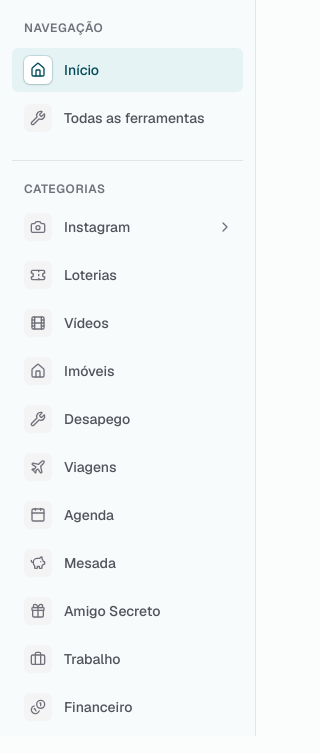
it: Menu Instagram em categorias (Manual / Automatizado) › Manual: post, carrossel, reels e legendas — sem 'Posts Virais'
Click the button named "Abrir opções do Instagram" at {"x": 225, "y": 227}, box [207,209,243,245]
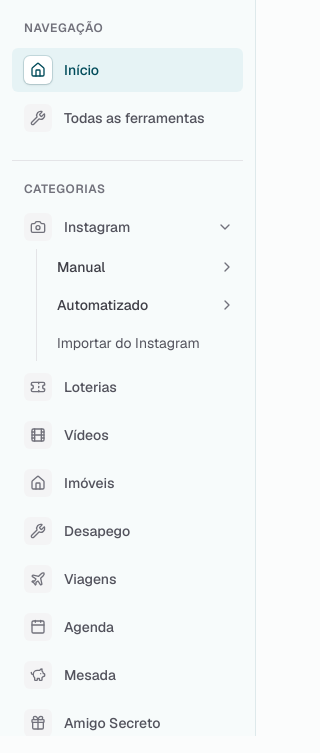
Click the button "Manual" at {"x": 146, "y": 267}, box [49,249,243,285]
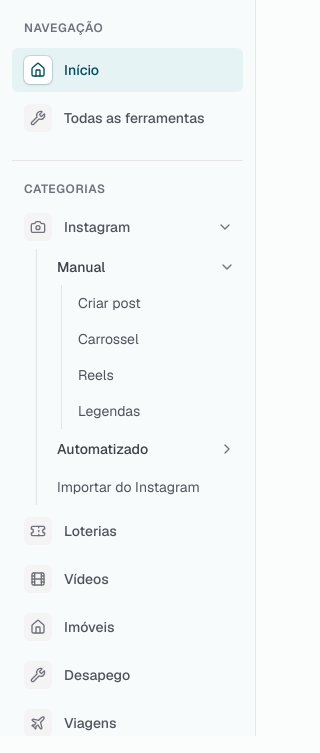
Now the links read "Criar post", "Carrossel", "Reels", "Legendas", in this order, box [78,294,141,312]; [78,330,139,348]; [78,366,114,384]; [78,402,140,420]
